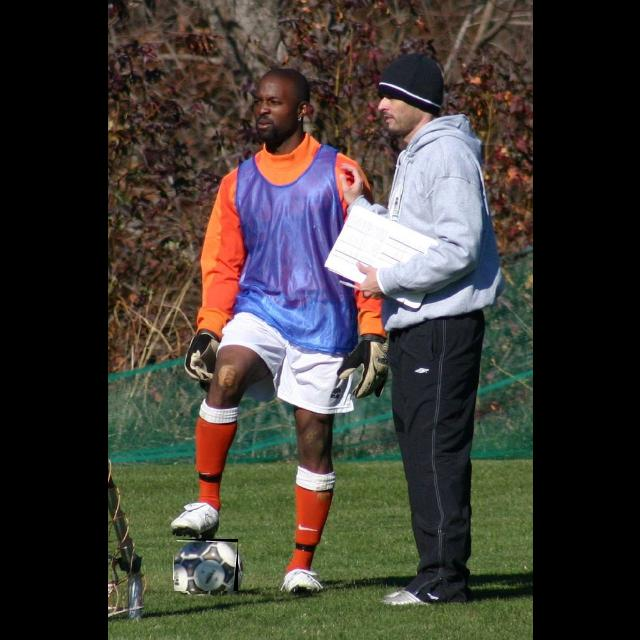Football: (174, 539, 238, 591)
